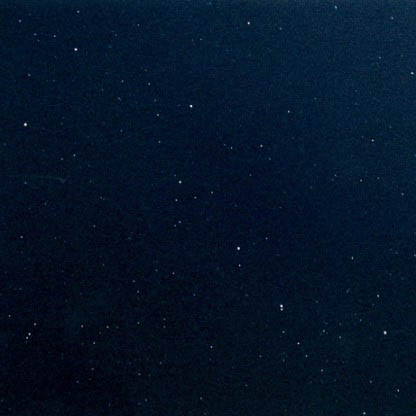Ursa Major: (14, 106, 39, 133), (225, 234, 249, 262), (266, 294, 295, 317), (166, 169, 188, 195), (180, 92, 202, 116), (65, 38, 84, 64), (374, 322, 393, 343)
